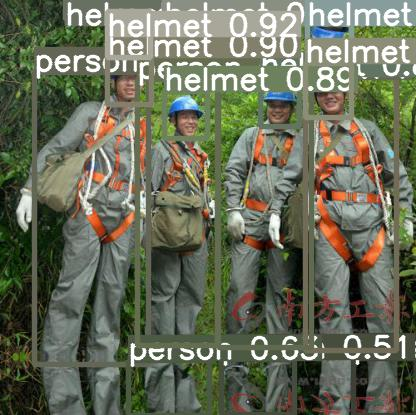helmet: (305, 63, 351, 117), (307, 0, 351, 52), (107, 57, 151, 104), (164, 91, 207, 138), (107, 11, 150, 57), (260, 76, 299, 126), (260, 0, 299, 38), (164, 0, 207, 24), (65, 0, 114, 19)
person: (34, 72, 148, 364), (305, 75, 396, 350), (218, 79, 311, 347), (137, 79, 217, 345), (128, 360, 209, 415), (221, 359, 294, 414), (353, 358, 416, 415)
